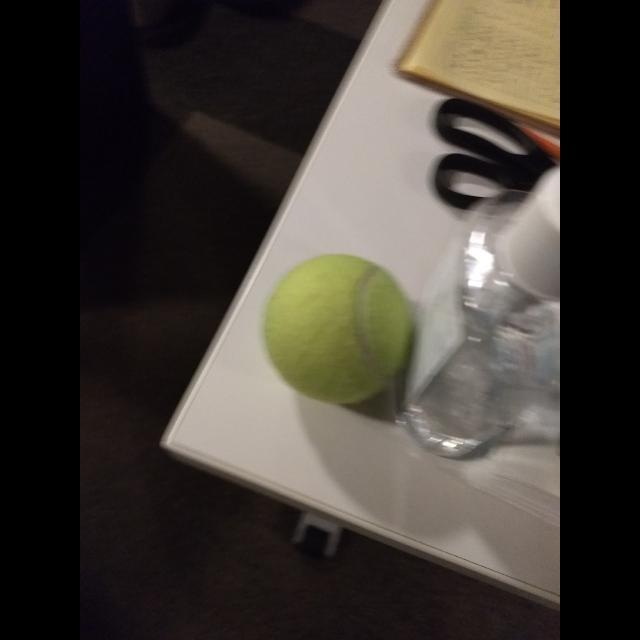tennis-ball: (263, 252, 412, 406)
